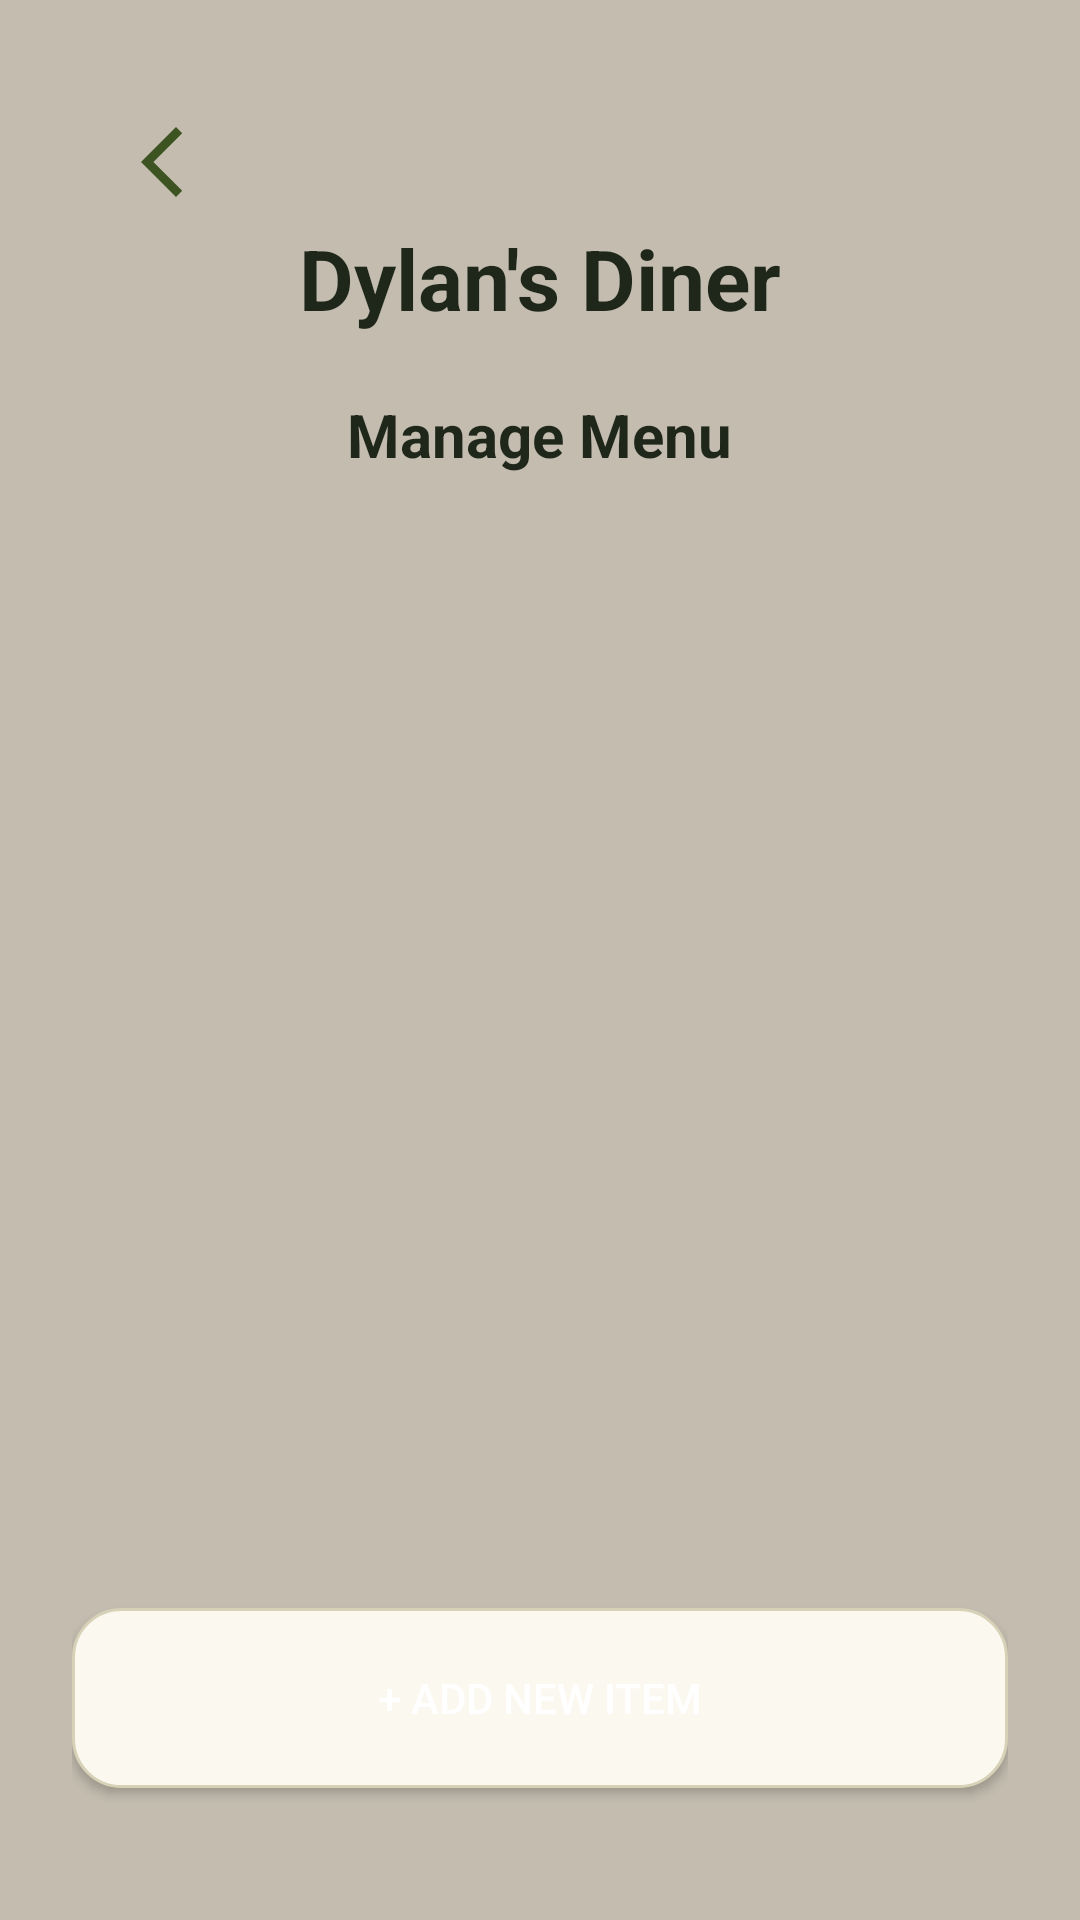

Locate icon controls on the screen. Image size 1080 x 1920, boxes as (x1, y1, x2, y2).
Back: (141, 127, 182, 197)
